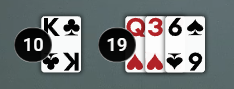3: (143, 12, 165, 40)
6: (163, 13, 186, 39)
k: (38, 13, 63, 40)
q: (122, 14, 148, 41)
